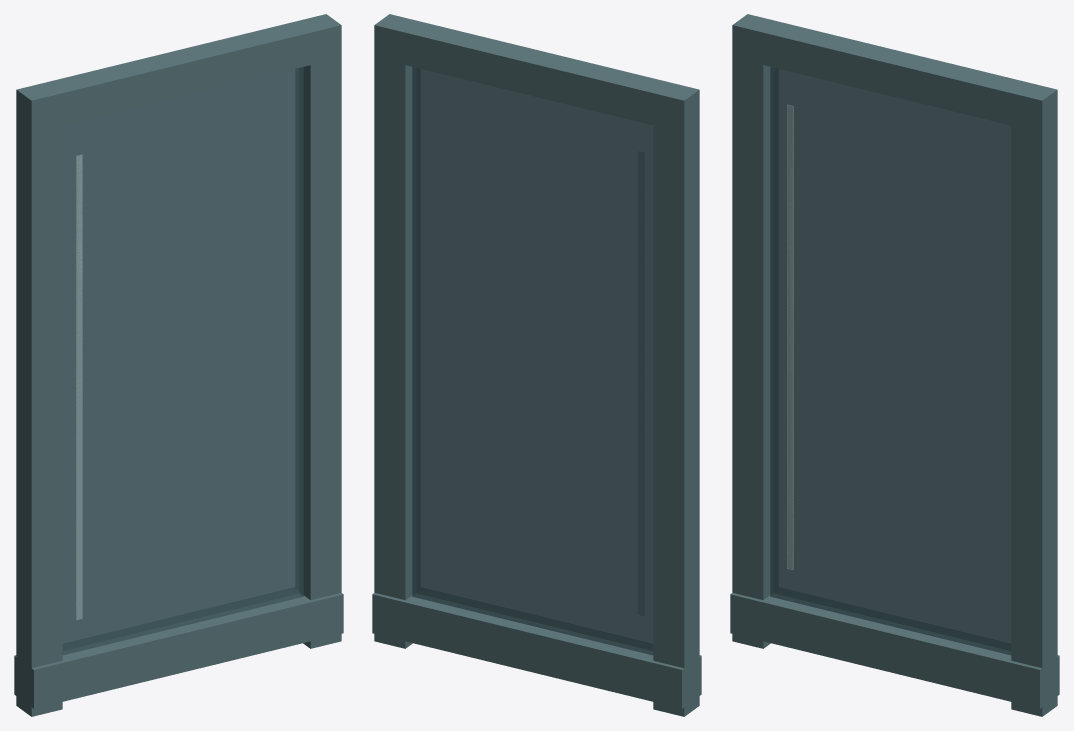
Rendered from CMU3DDirectionalTintedWindow.glb.
The picture shows the model from 3 angles, left to right: view 1: azimuth 30°, elevation 25°; view 2: azimuth 150°, elevation 25°; view 3: azimuth 330°, elevation 25°; orthographic projection.
Visible parts, largest first — view 1: tinted glass, left jamb, right jamb, sill, lintel, glass reflection edge; view 2: tinted glass, left jamb, right jamb, sill, lintel; view 3: tinted glass, right jamb, left jamb, sill, lintel, glass reflection edge.
Boxes of the visible parts, bbox=[...] form: tinted glass: bbox=[62, 67, 303, 655]; left jamb: bbox=[16, 82, 62, 716]; right jamb: bbox=[295, 14, 341, 648]; sill: bbox=[14, 592, 343, 708]; lintel: bbox=[16, 14, 341, 132]; glass reflection edge: bbox=[76, 154, 82, 619]; tinted glass: bbox=[412, 67, 653, 655]; left jamb: bbox=[653, 82, 699, 716]; right jamb: bbox=[374, 14, 420, 648]; sill: bbox=[372, 592, 701, 708]; lintel: bbox=[374, 14, 699, 132]; tinted glass: bbox=[770, 67, 1011, 655]; right jamb: bbox=[1011, 82, 1057, 716]; left jamb: bbox=[732, 14, 778, 648]; sill: bbox=[730, 592, 1059, 708]; lintel: bbox=[732, 14, 1057, 132]; glass reflection edge: bbox=[787, 104, 793, 570].
Size of the model in its own units: 1 by 1.9 by 0.11.
